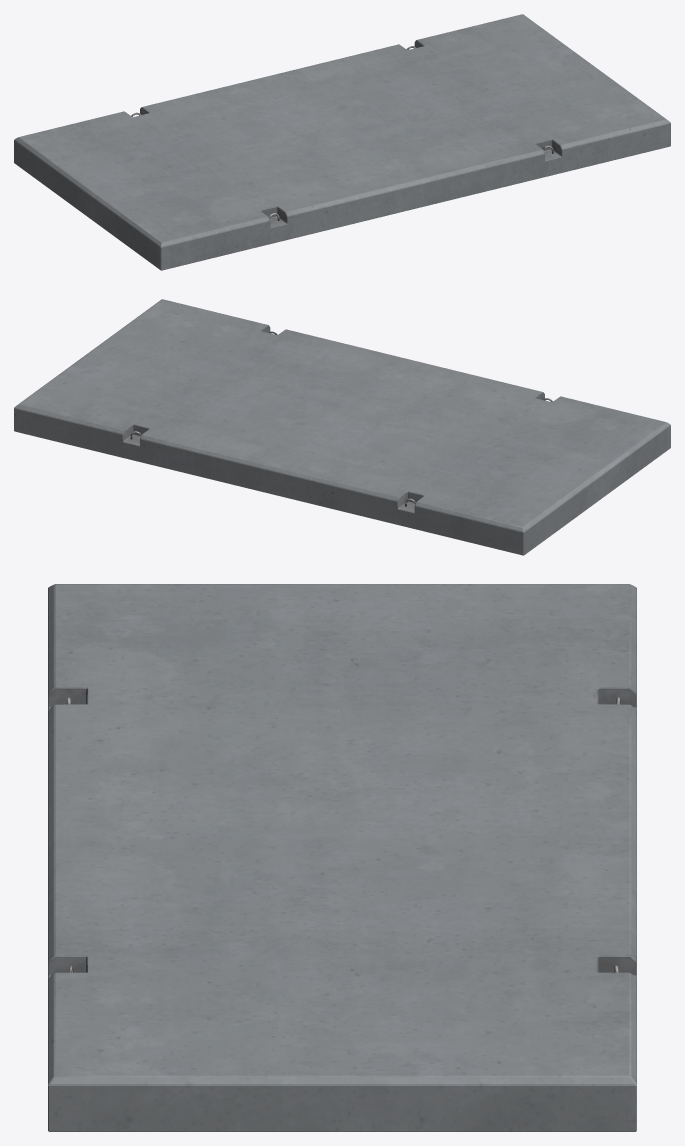
The model's file is Plyty Drogowe.glb.
3 views of the same model, one above another, from view 1: azimuth 30°, elevation 25°; view 2: azimuth 150°, elevation 25°; view 3: azimuth 270°, elevation 25° (orthographic). The views are drawn at different scales.
Visible parts, largest first — view 1: Plyta Drogowa; view 2: Plyta Drogowa; view 3: Plyta Drogowa.
Part boxes in pixels (x1=…): Plyta Drogowa: x1=14, y1=14, x2=670, y2=270; Plyta Drogowa: x1=14, y1=299, x2=670, y2=555; Plyta Drogowa: x1=48, y1=584, x2=636, y2=1131.
Size of the model in its own units: 4.07 by 0.2037 by 2.04.
Materials: 1 (1 with a texture image).
